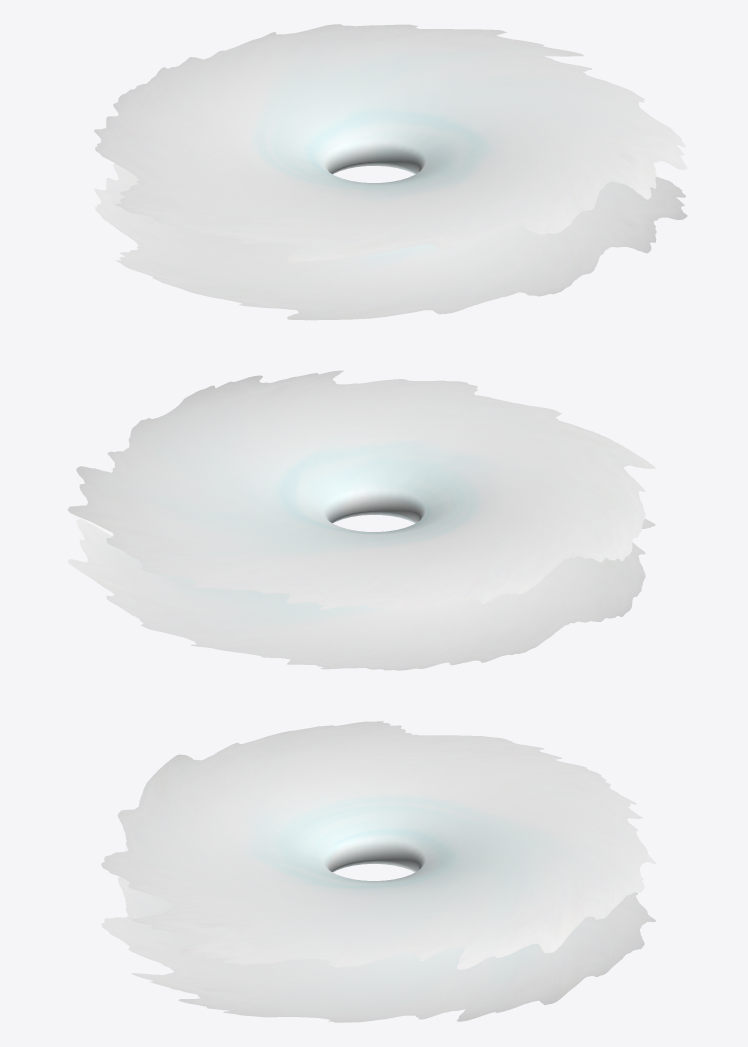
The model's file is Hurricane_Eye.fbx.
The picture shows the model from 3 angles, top to bottom: view 1: azimuth 30°, elevation 25°; view 2: azimuth 150°, elevation 25°; view 3: azimuth 270°, elevation 25°; orthographic projection.
Parts seen in each view (by area): view 1: mesh_hurricane_top, mesh_hurricane_top1; view 2: mesh_hurricane_top, mesh_hurricane_top1; view 3: mesh_hurricane_top, mesh_hurricane_top1.
Boxes of the visible parts, x1,y1,x2,y2 form: mesh_hurricane_top: (94, 24, 687, 262); mesh_hurricane_top1: (94, 155, 687, 320); mesh_hurricane_top: (67, 370, 655, 610); mesh_hurricane_top1: (67, 504, 655, 670); mesh_hurricane_top: (101, 721, 655, 969); mesh_hurricane_top1: (101, 853, 655, 1022).
Bounding box in the file's own units: 3.77 × 0.4053 × 3.77.
